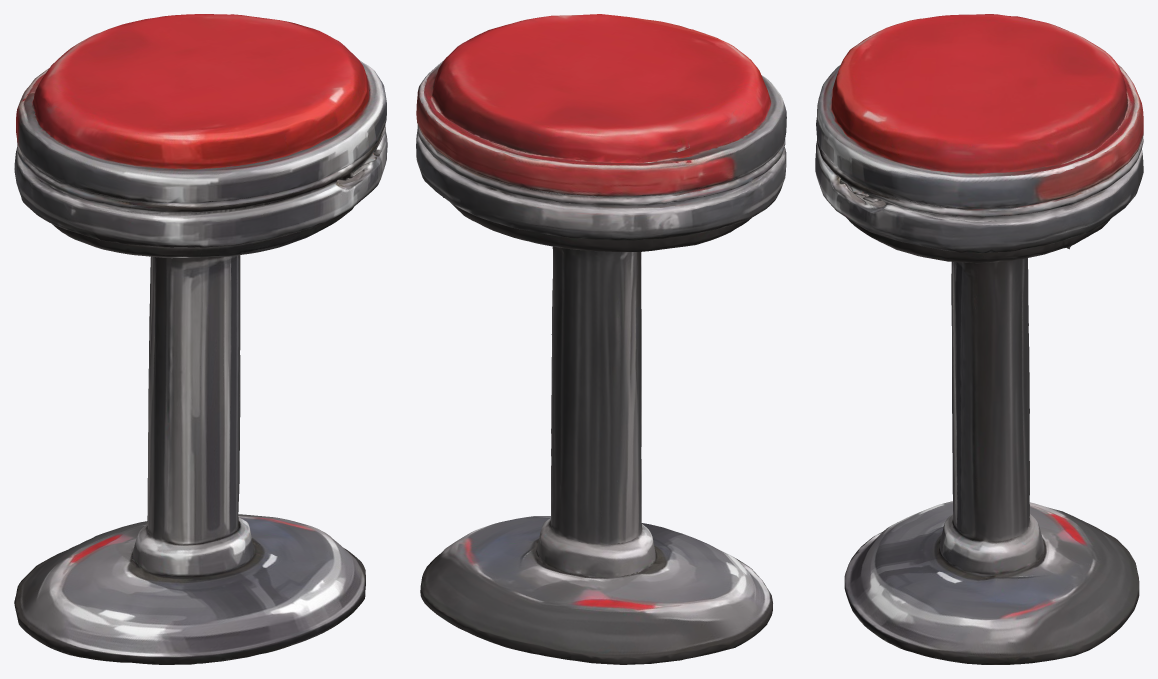
File: stool.glb
3 renders of one model, left to right at view 1: azimuth 30°, elevation 25°; view 2: azimuth 150°, elevation 25°; view 3: azimuth 270°, elevation 25°, orthographic. The views are drawn at different scales.
Visible parts, largest first — view 1: piece; view 2: piece; view 3: piece.
Boxes of the visible parts, left/top/right/bottom form: piece: left=14, top=14, right=387, bottom=664; piece: left=416, top=14, right=786, bottom=664; piece: left=815, top=14, right=1143, bottom=664.
Bounding box in the file's own units: 0.526 × 0.8 × 0.46.
1 material, 1 textured.
